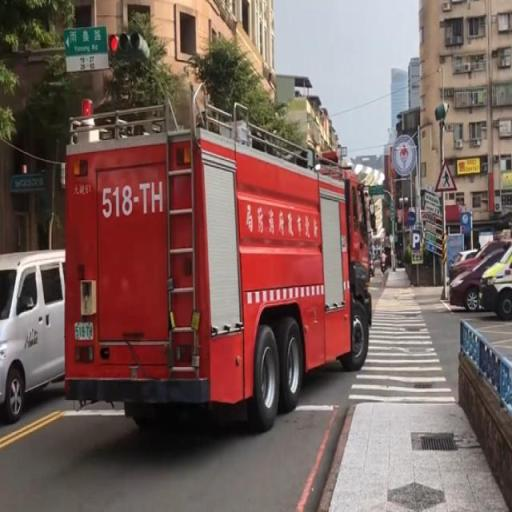fire truck: (65, 108, 372, 431)
